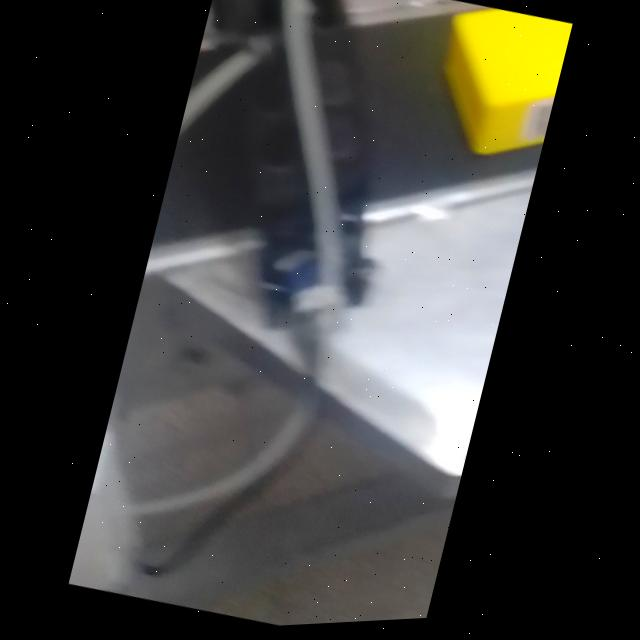yellowBox: (406, 0, 572, 178)
